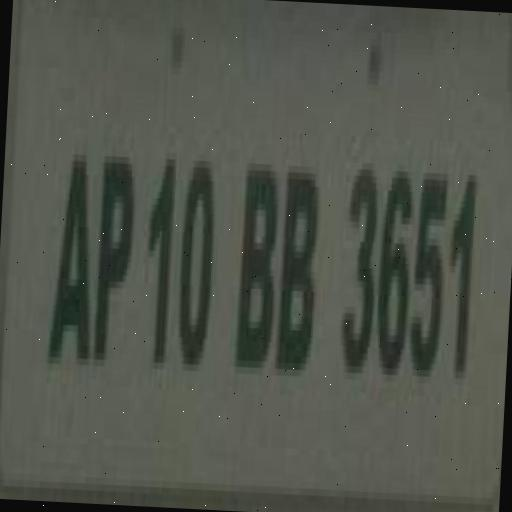number plate: (0, 39, 507, 512)
